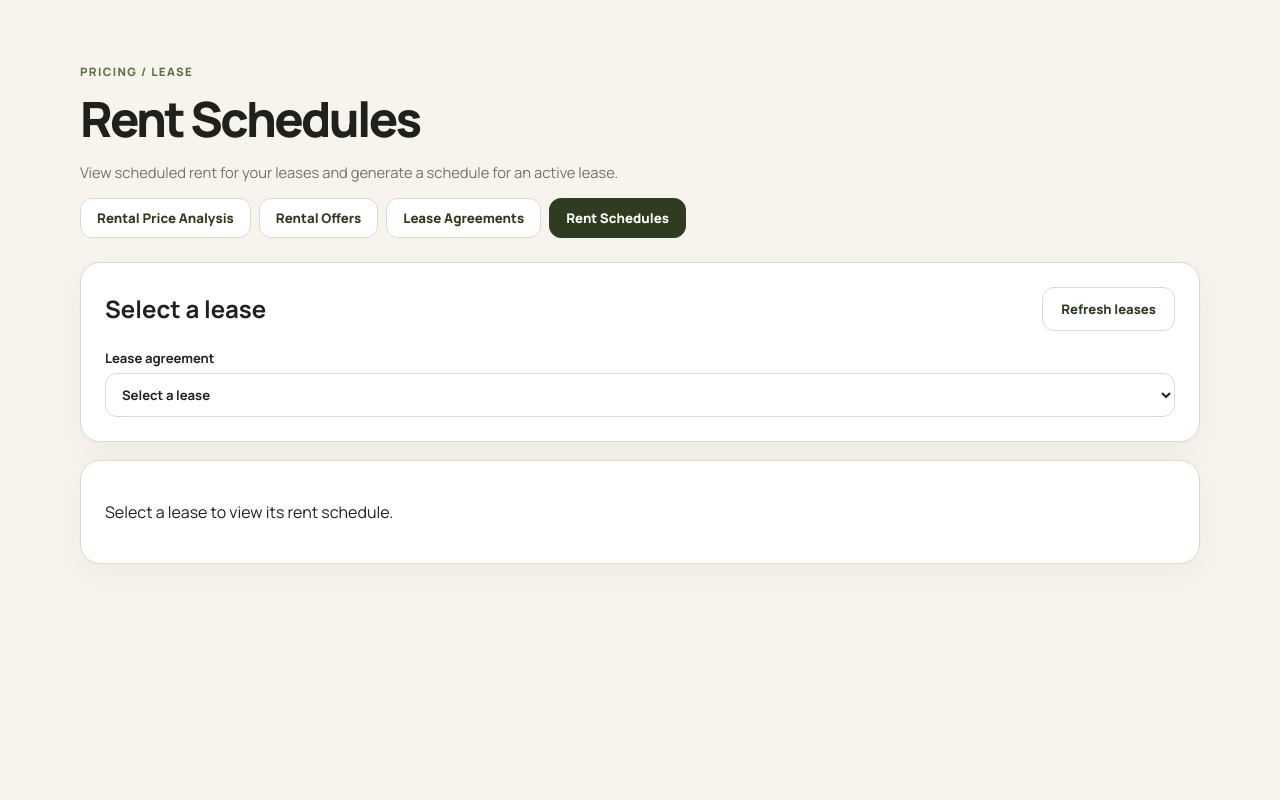
it: landlord rent schedules › loads the selected lease schedule and handles an empty schedule
This screenshot has width=1280, height=800.
Select "44444444-4444-4444-4444-444444444444 · Tenant 55555555-5555-5555-5555-5555555555" in the dropdown labelled "Lease agreement": point(640, 395) [105,373,1175,417]
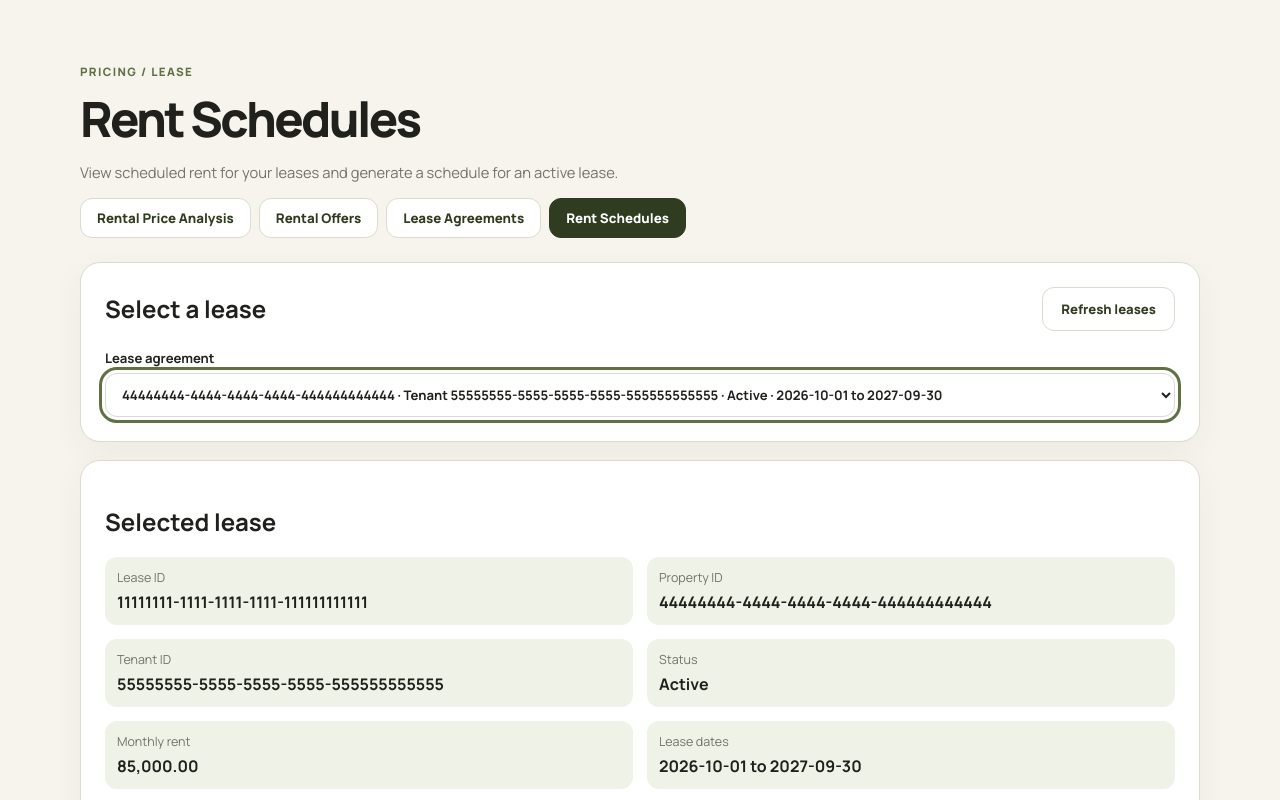
Select "44444444-4444-4444-4444-444444444444 · Tenant 55555555-5555-5555-5555-5555555555" in the dropdown labelled "Lease agreement": point(640, 395) [105,373,1175,417]
(page scrolled)
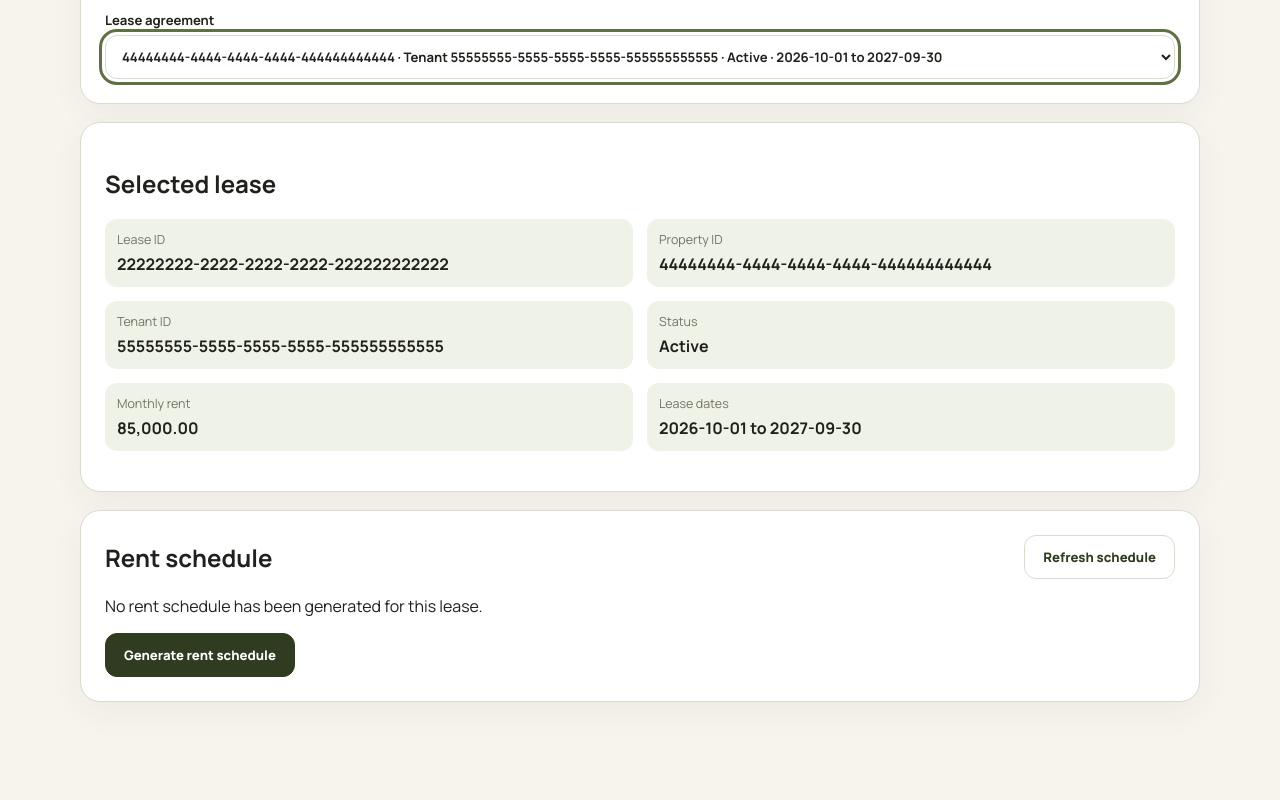
expect the text "No rent schedule has been generated for this lease." is shown: met, box [105,596,483,618]
